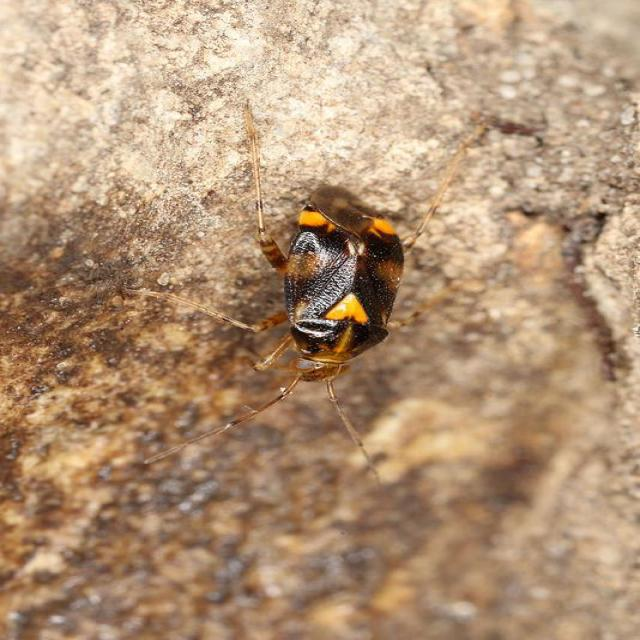Miridae-Adult-: (110, 96, 514, 488)
